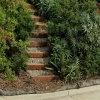stairs: (24, 4, 61, 81)
